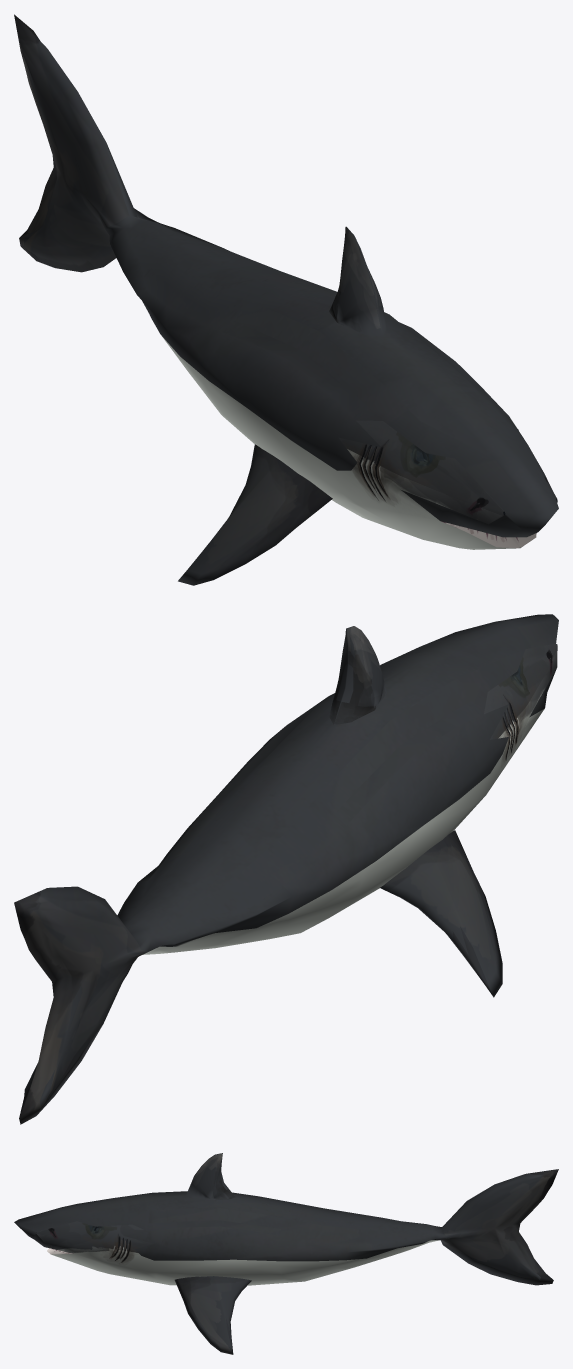
The model's file is shark.fbx.
3 renders of one model, top to bottom at view 1: azimuth 30°, elevation 25°; view 2: azimuth 150°, elevation 25°; view 3: azimuth 270°, elevation 25°, orthographic. The views are drawn at different scales.
Visible parts, largest first — view 1: polySurface22; view 2: polySurface22; view 3: polySurface22.
Part boxes in pixels (x1,y1,x2,y2): polySurface22: [14, 14, 558, 585]; polySurface22: [14, 614, 558, 1124]; polySurface22: [14, 1153, 558, 1354].
Size of the model in its own units: 4.97 by 4.83 by 14.59.
